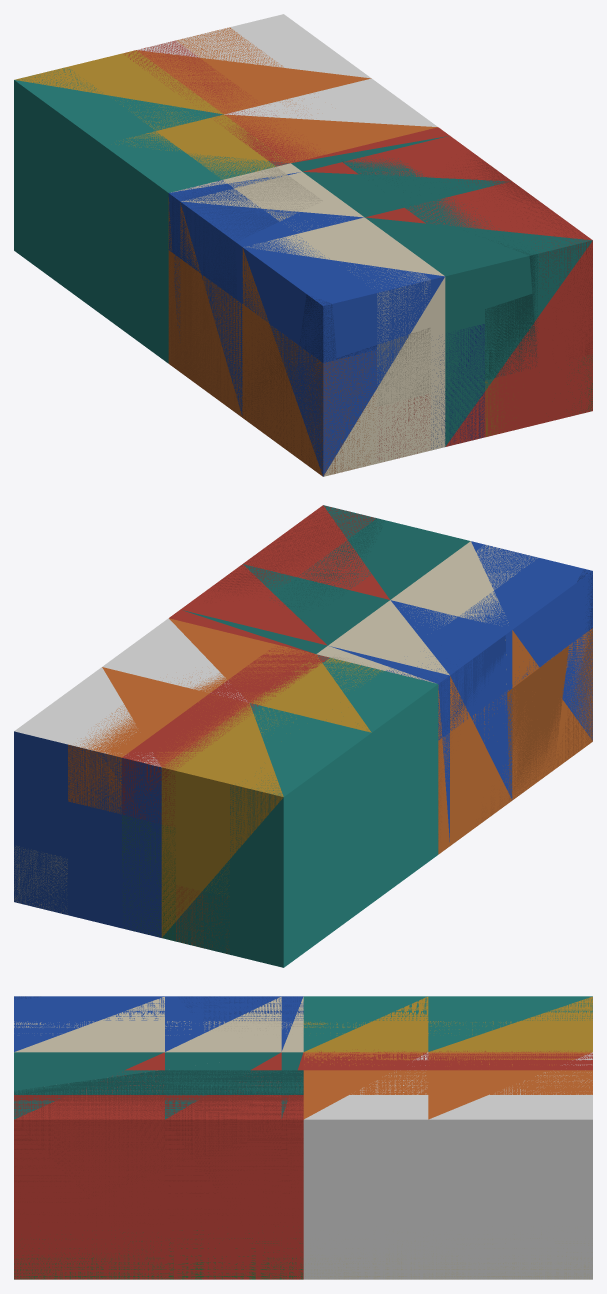
File: bld_container_a.glb
3 views of the same model, one above another, from view 1: azimuth 30°, elevation 25°; view 2: azimuth 150°, elevation 25°; view 3: azimuth 270°, elevation 25° (orthographic). The views are drawn at different scales.
Parts seen in each view (by area): view 1: damaged, chunk_00, chunk_01, intact, chunk_06, chunk_02, chunk_04, chunk_07, chunk_05, chunk_03; view 2: damaged, chunk_06, chunk_07, chunk_04, chunk_00, chunk_02, intact, chunk_01, chunk_05, chunk_03; view 3: damaged, chunk_07, chunk_01, chunk_05, chunk_03, chunk_06, chunk_00, chunk_04, intact, chunk_02.
Boxes of the visible parts, <box> form: damaged: <box>14,27,592,475</box>; chunk_00: <box>242,217,445,476</box>; chunk_01: <box>365,181,592,446</box>; intact: <box>168,157,537,474</box>; chunk_06: <box>14,50,223,310</box>; chunk_02: <box>180,172,364,417</box>; chunk_04: <box>103,114,301,365</box>; chunk_07: <box>137,14,371,114</box>; chunk_05: <box>224,78,449,171</box>; chunk_03: <box>302,136,510,217</box>; damaged: <box>14,506,592,967</box>; chunk_06: <box>161,703,371,967</box>; chunk_07: <box>14,667,247,937</box>; chunk_04: <box>250,645,449,902</box>; chunk_00: <box>391,541,592,800</box>; chunk_02: <box>328,600,512,845</box>; intact: <box>277,518,592,853</box>; chunk_01: <box>243,505,470,599</box>; chunk_05: <box>102,609,327,702</box>; chunk_03: <box>180,564,389,645</box>; damaged: <box>14,996,592,1279</box>; chunk_07: <box>428,1052,592,1279</box>; chunk_01: <box>14,1052,164,1279</box>; chunk_05: <box>281,1052,428,1279</box>; chunk_03: <box>165,1052,281,1279</box>; chunk_06: <box>428,996,592,1052</box>; chunk_00: <box>14,996,164,1052</box>; chunk_04: <box>281,996,428,1052</box>; intact: <box>14,996,303,1094</box>; chunk_02: <box>165,996,281,1052</box>.
Size of the model in its own units: 13 by 7.86 by 25.8.
